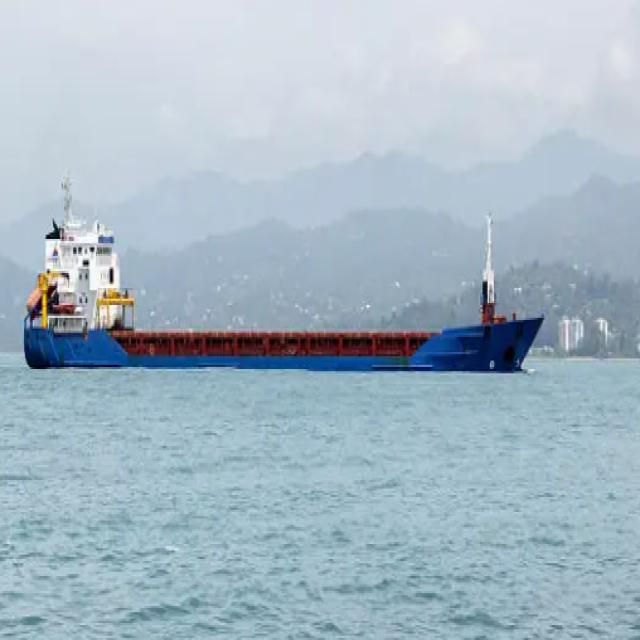cargoship: (20, 169, 545, 375)
